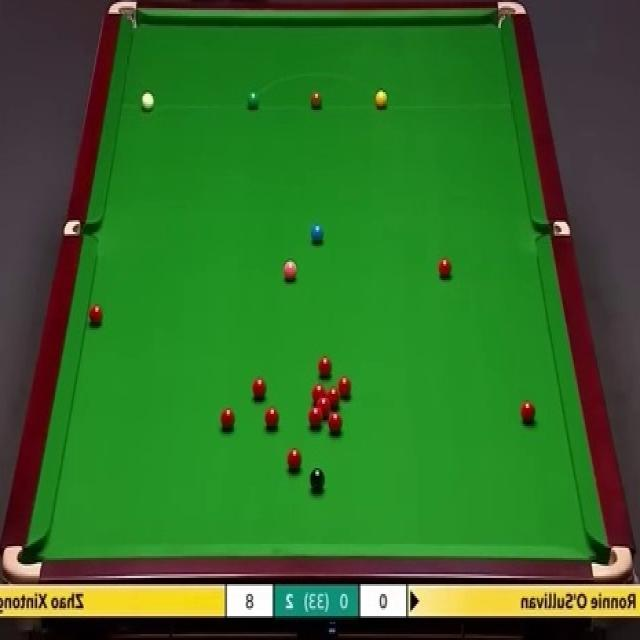pocket: (0, 539, 44, 586), (592, 543, 632, 586), (497, 0, 527, 31), (108, 0, 137, 32), (63, 218, 97, 240), (536, 220, 571, 238)
